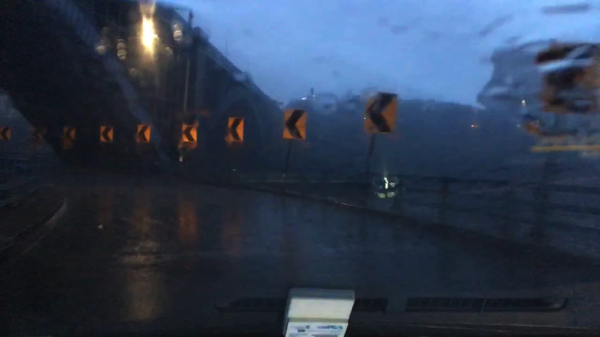traffic sign: (538, 55, 587, 107), (365, 94, 398, 133), (283, 110, 302, 139), (230, 118, 244, 144), (135, 125, 151, 140), (182, 125, 196, 141), (31, 126, 44, 140), (102, 126, 113, 141), (1, 127, 12, 140), (66, 129, 78, 140)
